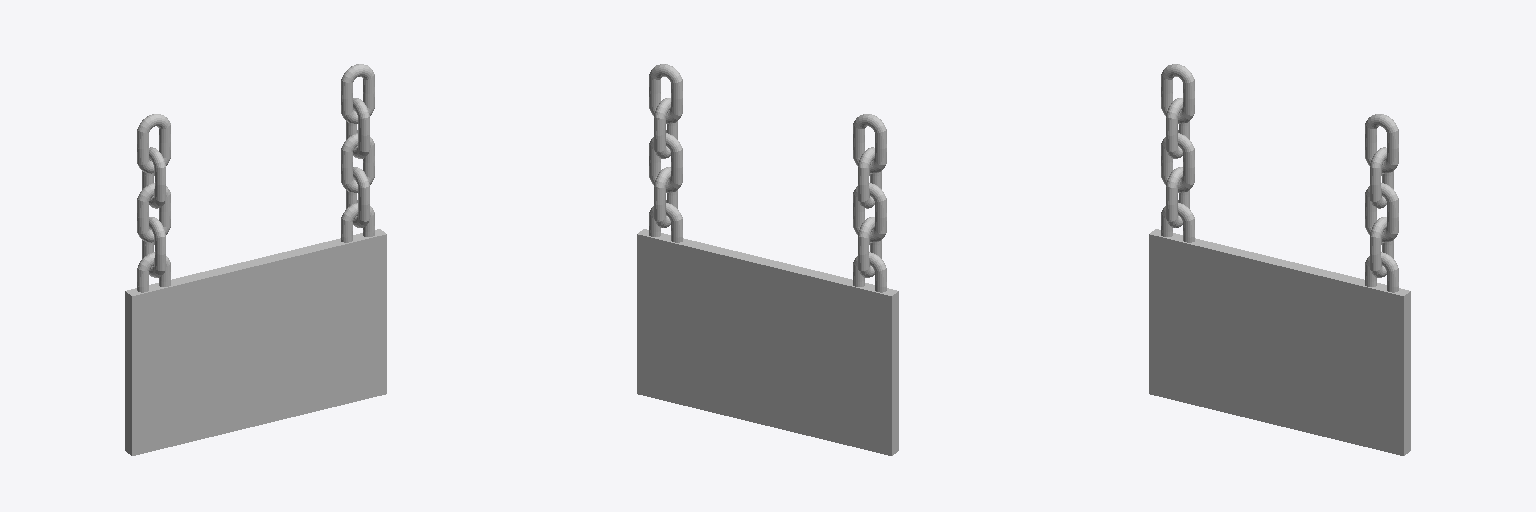
The model's file is Sign.obj.
The picture shows the model from 3 angles: view 1: azimuth 30°, elevation 25°; view 2: azimuth 150°, elevation 25°; view 3: azimuth 330°, elevation 25°; orthographic projection.
Visible parts, largest first — view 1: polySurface13; view 2: polySurface13; view 3: polySurface13.
Boxes of the visible parts, x1=… form: polySurface13: x1=125, y1=64, x2=386, y2=455; polySurface13: x1=637, y1=64, x2=898, y2=455; polySurface13: x1=1149, y1=64, x2=1410, y2=455.
Bounding box in the file's own units: 5 × 6.24 × 0.6576.